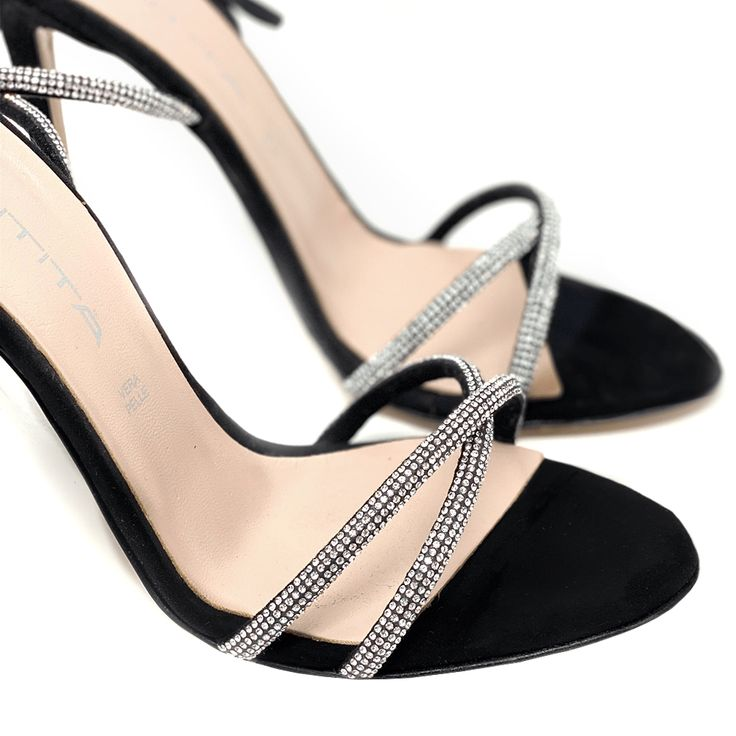gamuza: (374, 267, 722, 677)
